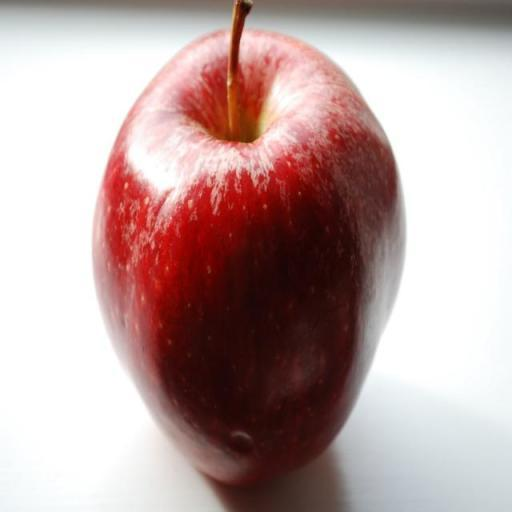fruit: (92, 31, 403, 483), (233, 5, 243, 29), (230, 50, 233, 54), (234, 39, 236, 44), (233, 29, 234, 32), (233, 37, 234, 38)
